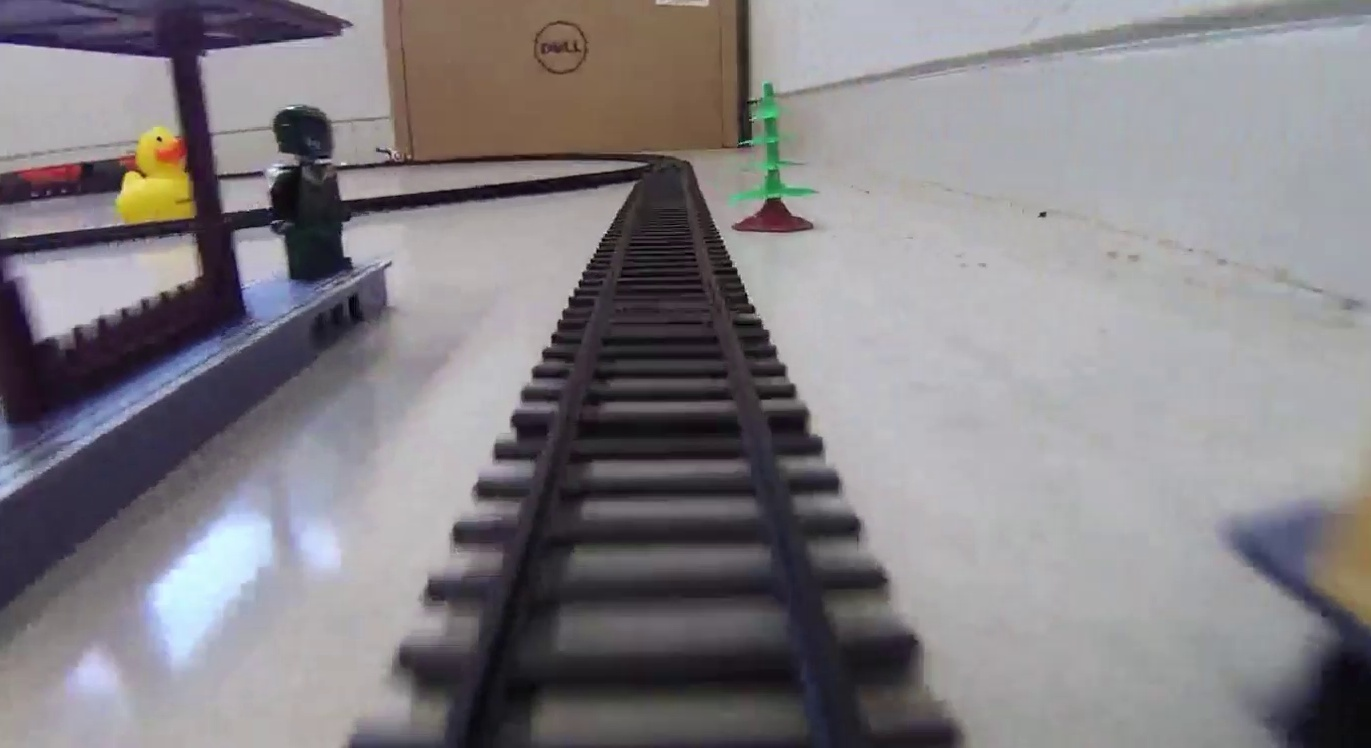people: (268, 101, 357, 279)
tree: (731, 84, 817, 230)
